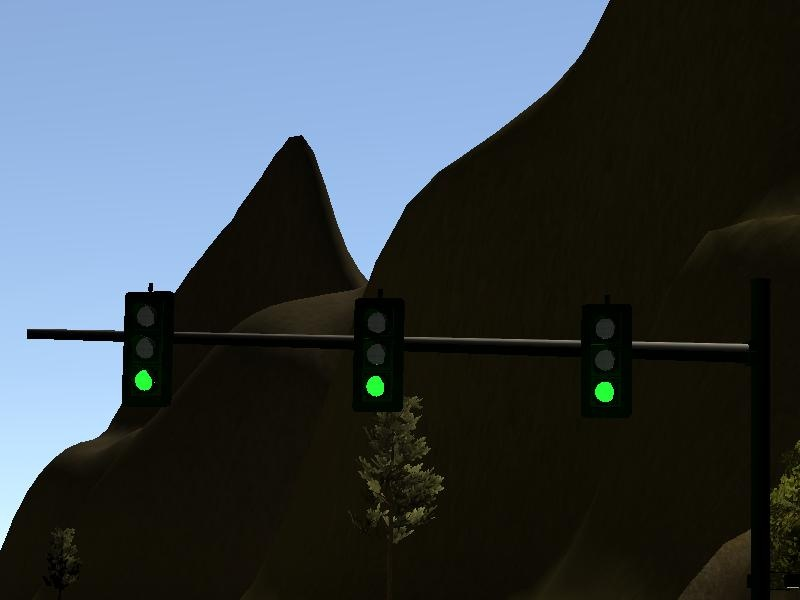green: (346, 286, 405, 415), (578, 293, 638, 417), (121, 282, 176, 411)
